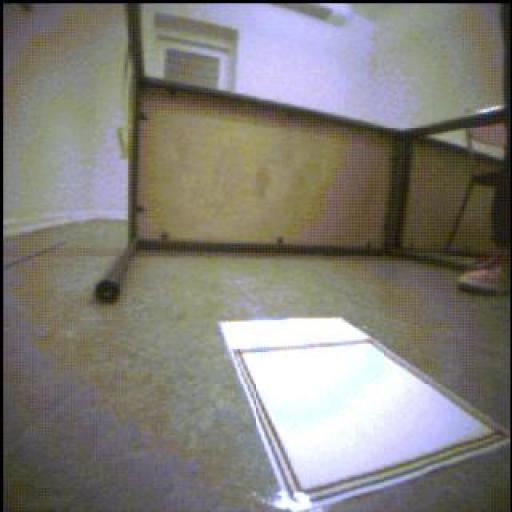Pad: (220, 320, 510, 512)
